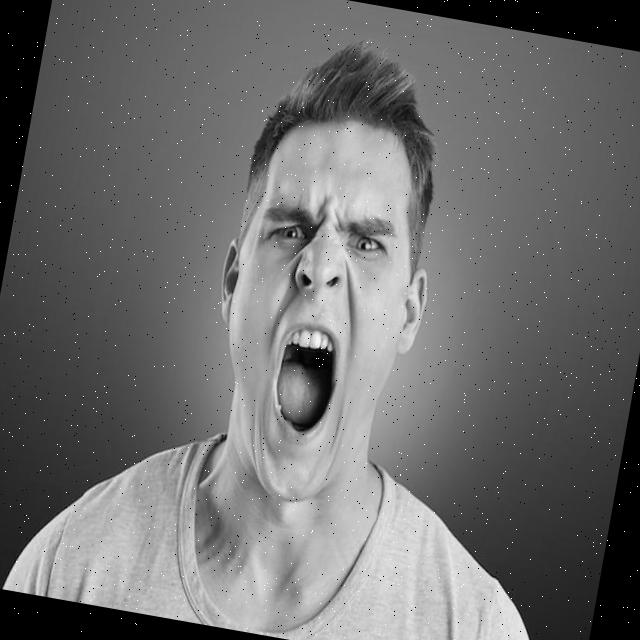Angry: (199, 118, 433, 516)
